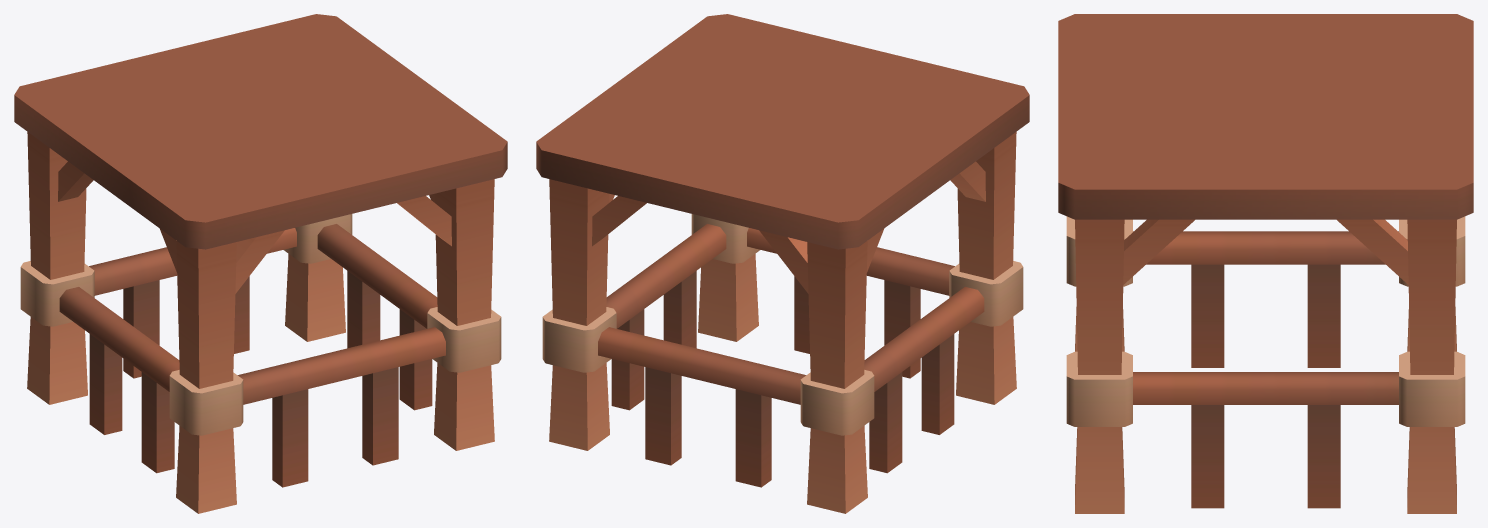
The model's file is kenney-pirate-structure-fence-sides.glb.
The picture shows the model from 3 angles, left to right: view 1: azimuth 30°, elevation 25°; view 2: azimuth 150°, elevation 25°; view 3: azimuth 270°, elevation 25°; orthographic projection. The views are drawn at different scales.
Visible parts, largest first — view 1: structure-fence-sides; view 2: structure-fence-sides; view 3: structure-fence-sides.
Part boxes in pixels (left/top/right/bottom): structure-fence-sides: left=14, top=14, right=507, bottom=513; structure-fence-sides: left=536, top=14, right=1029, bottom=513; structure-fence-sides: left=1058, top=14, right=1473, bottom=513.
Size of the model in its own units: 2.5 by 2.2 by 2.5.
1 material, 1 textured.
